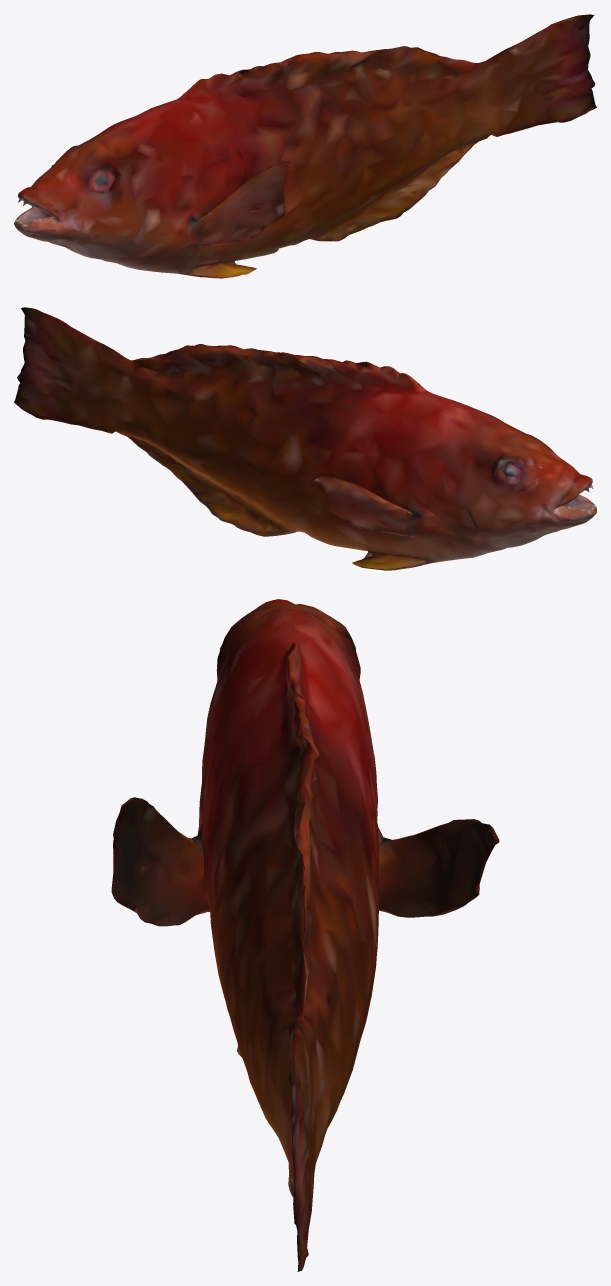
File: red-naped-wrasse.glb
3 views of the same model, one above another, from view 1: azimuth 30°, elevation 25°; view 2: azimuth 150°, elevation 25°; view 3: azimuth 270°, elevation 25° (orthographic). The views are drawn at different scales.
Parts seen in each view (by area): view 1: baked; view 2: baked; view 3: baked.
Part boxes in pixels (box(x1,y1,x2,y2)): baked: box(14, 14, 596, 278); baked: box(14, 307, 596, 570); baked: box(111, 599, 499, 1271).
Bounding box in the file's own units: 1 × 0.3261 × 0.2911.
